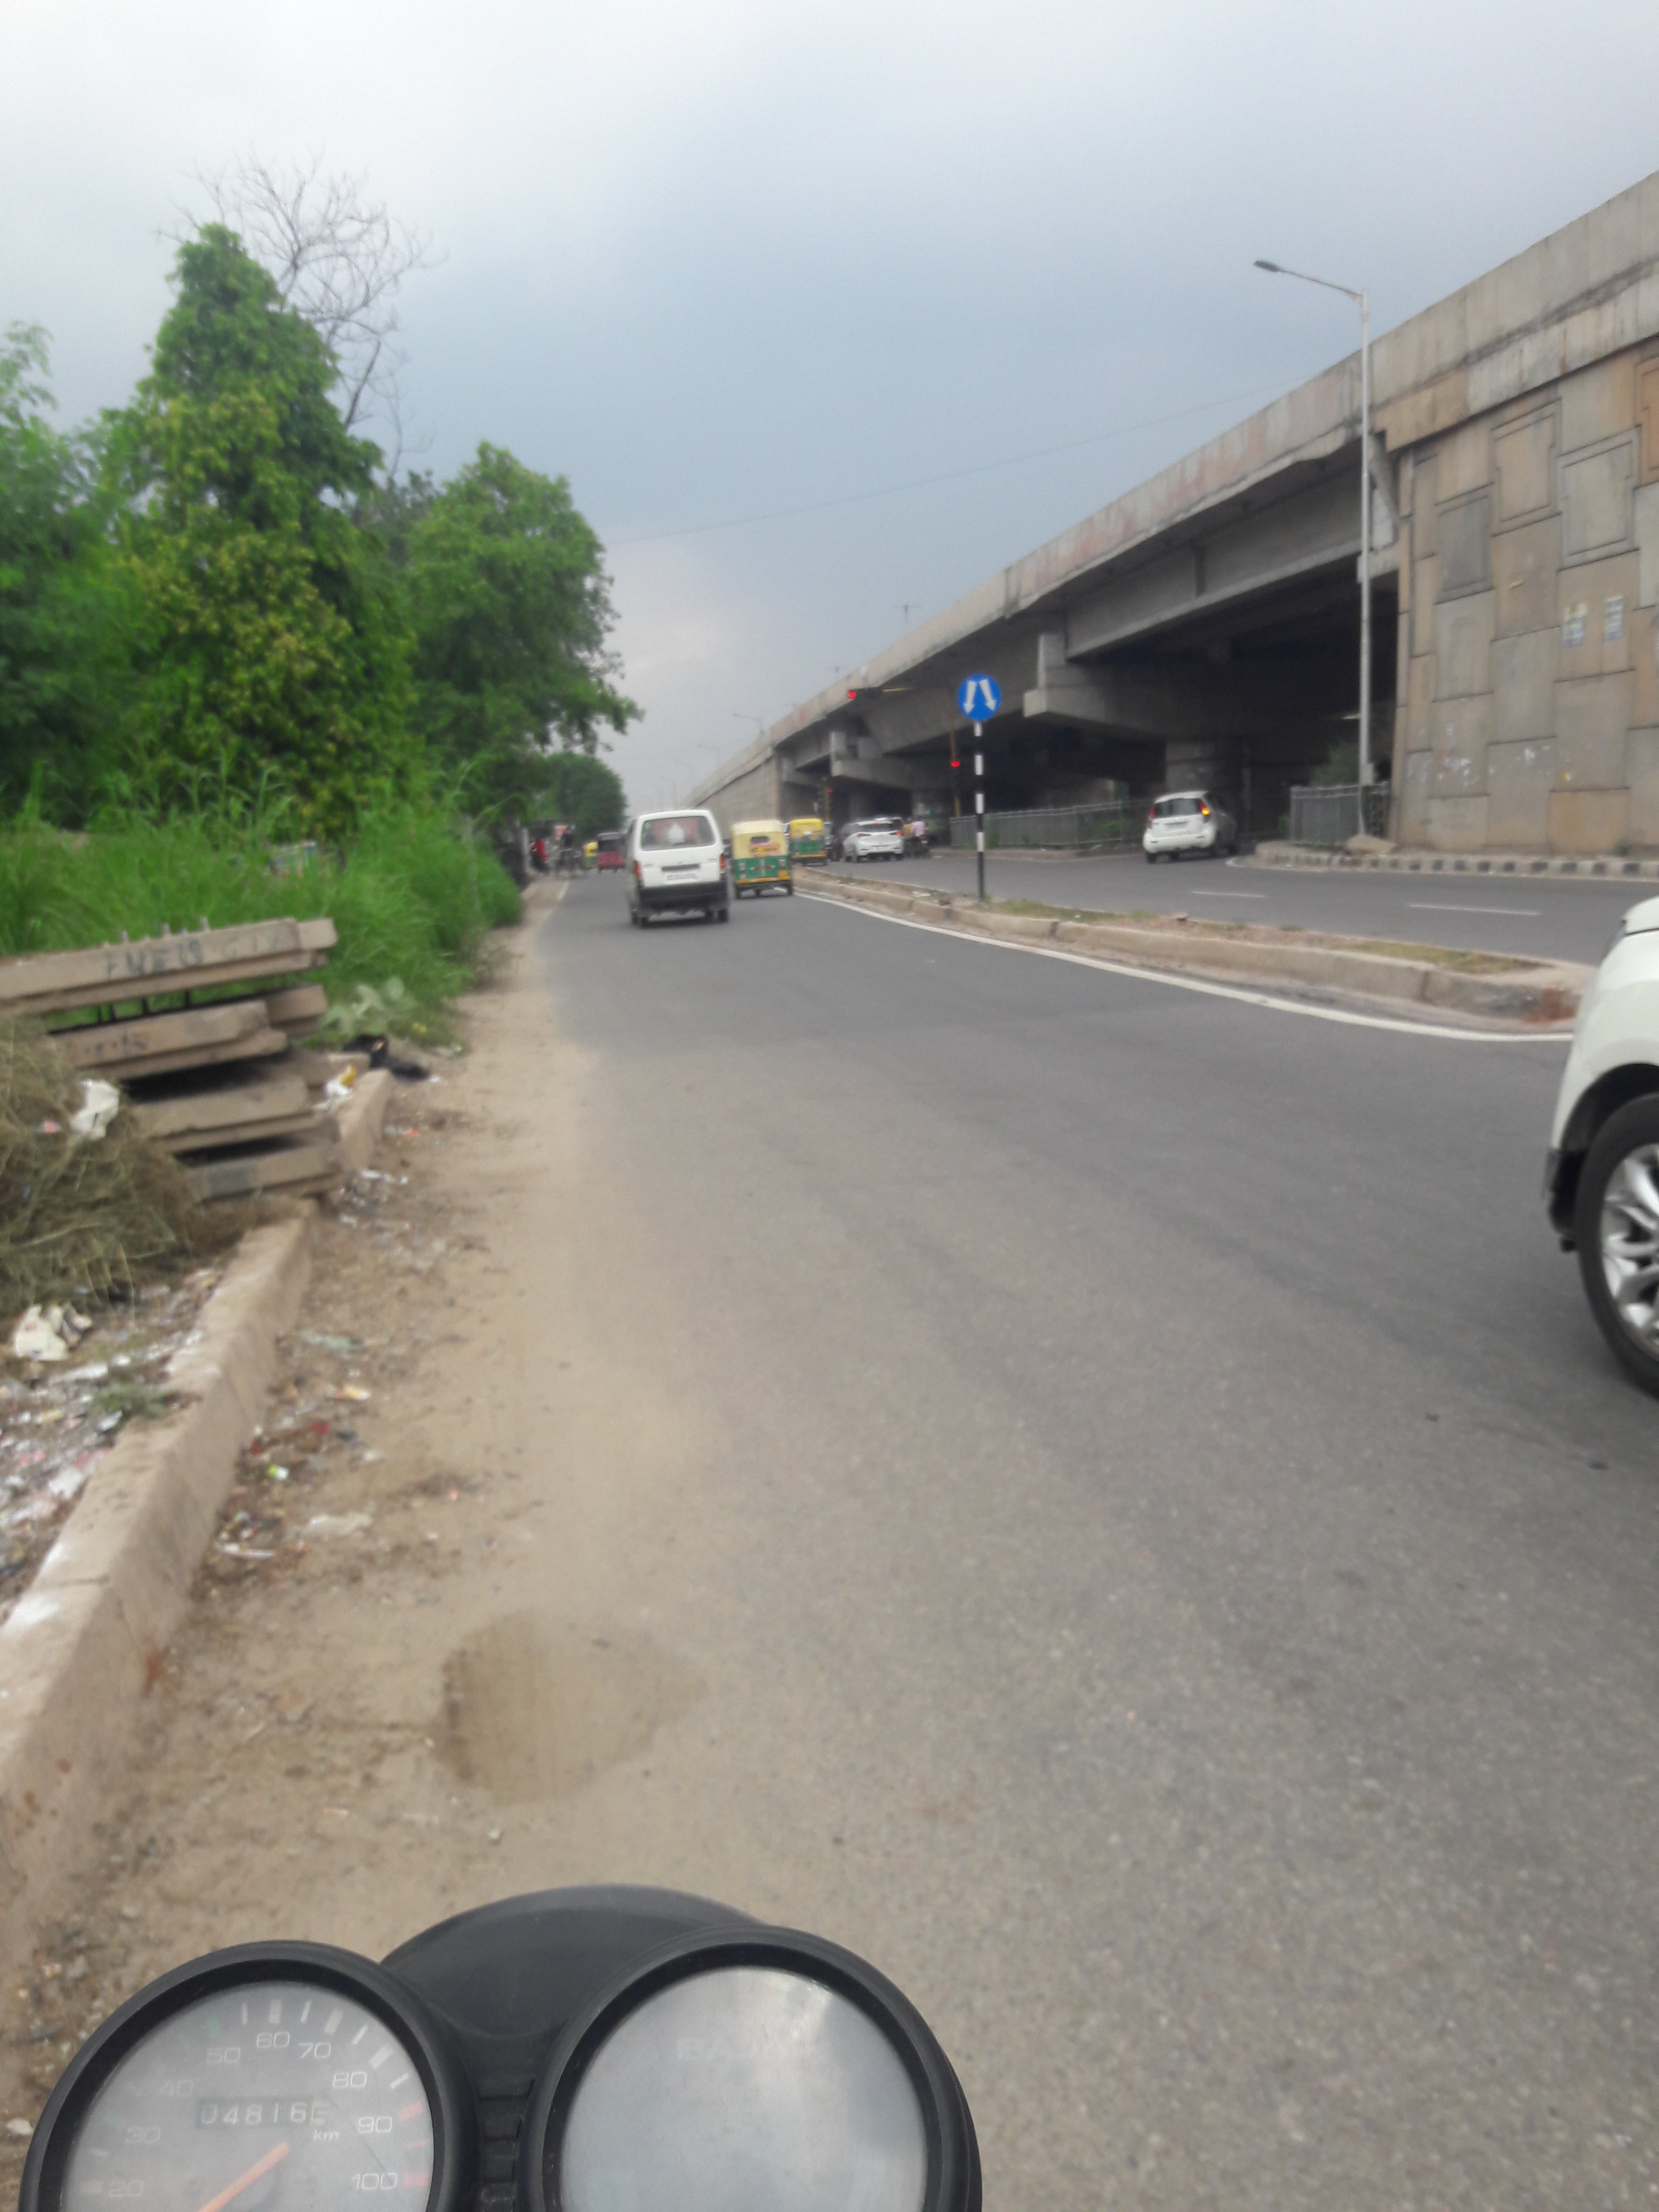traffic_sign: (960, 674, 999, 719), (812, 775, 836, 820), (945, 742, 964, 789), (847, 685, 875, 700)
